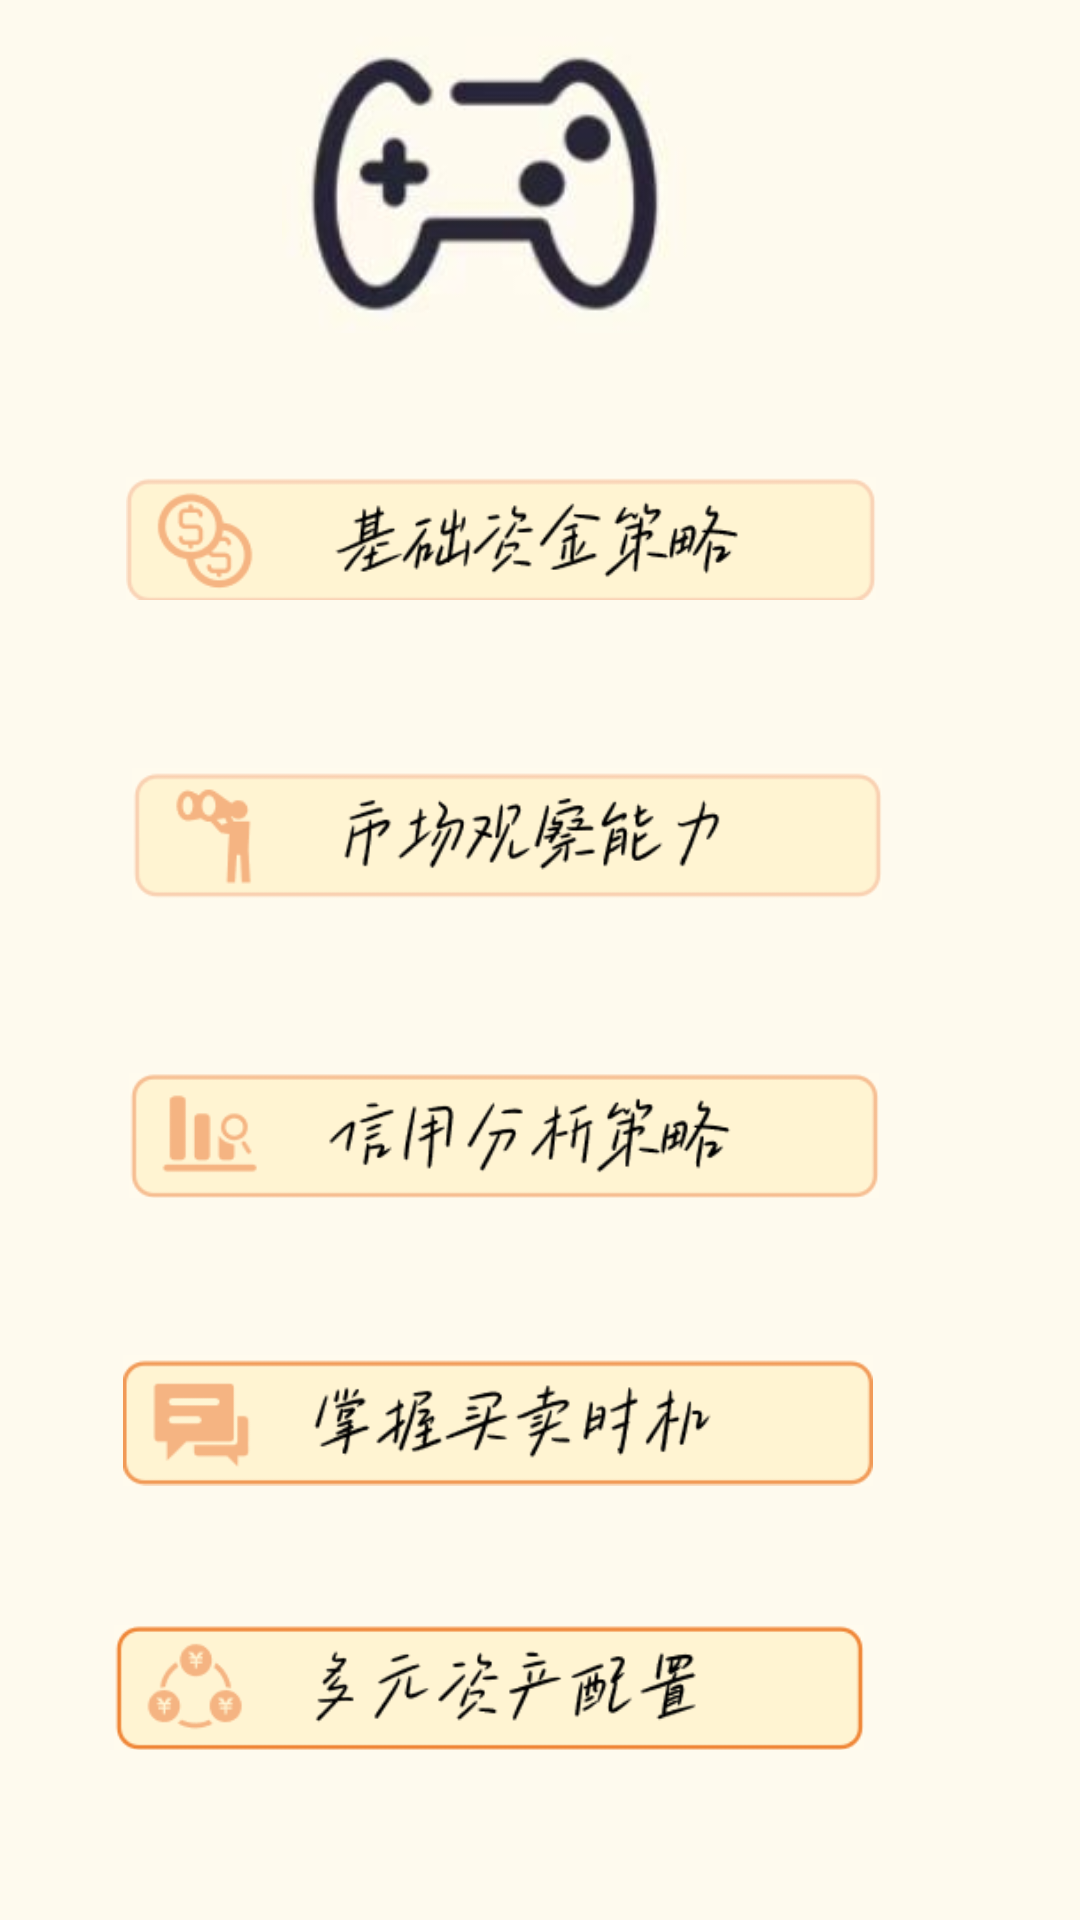

Named icons in this screenshot (1080x1920) and their bounding boxes, {"left": x1, "top": y1, "right": x2, "bottom": y2}:
game: {"left": 311, "top": 57, "right": 659, "bottom": 311}
